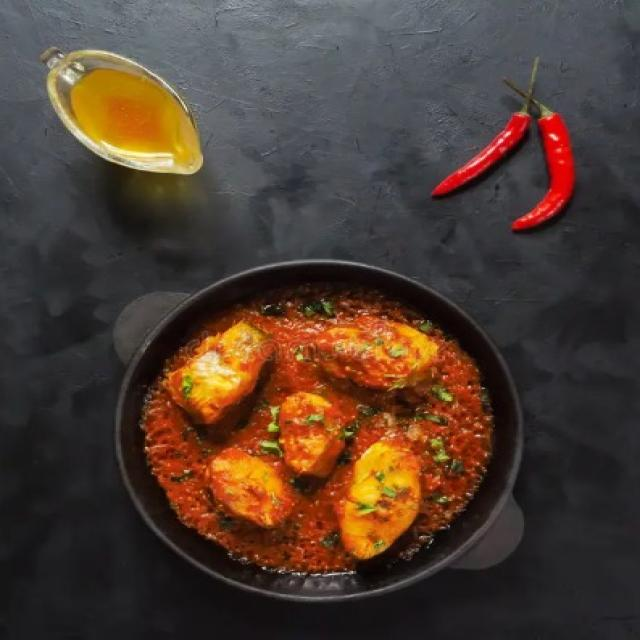FISH CURRY: (123, 266, 521, 593)
